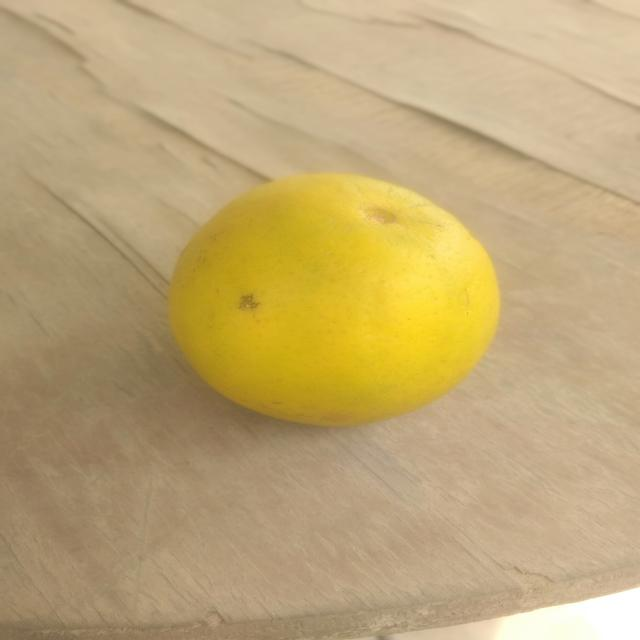Ripe orange: (157, 173, 504, 437)
